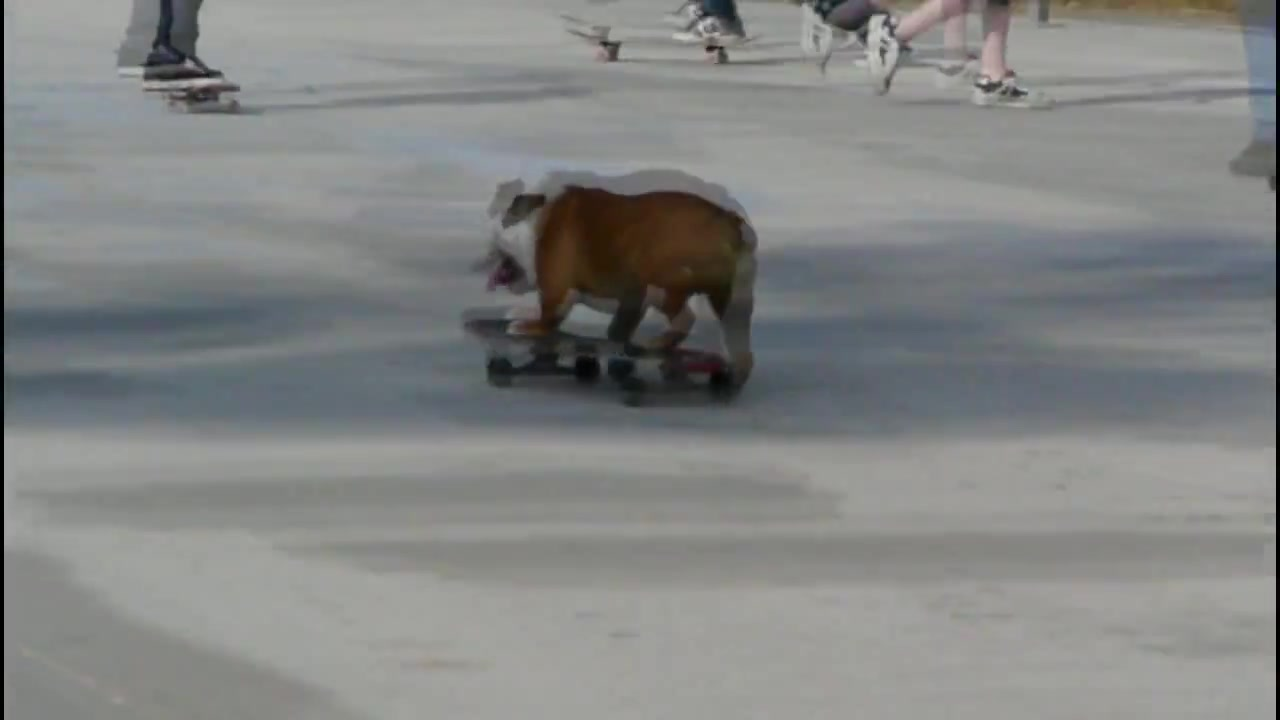dog: (490, 181, 751, 372)
